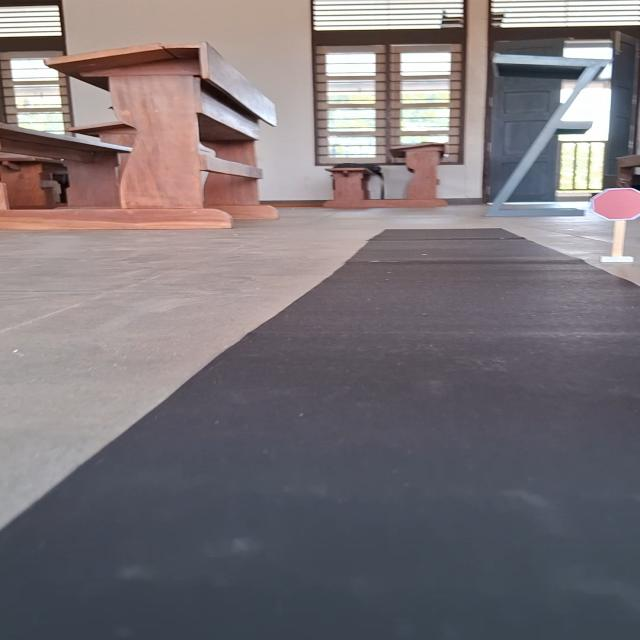Stop: (587, 187, 640, 222)
